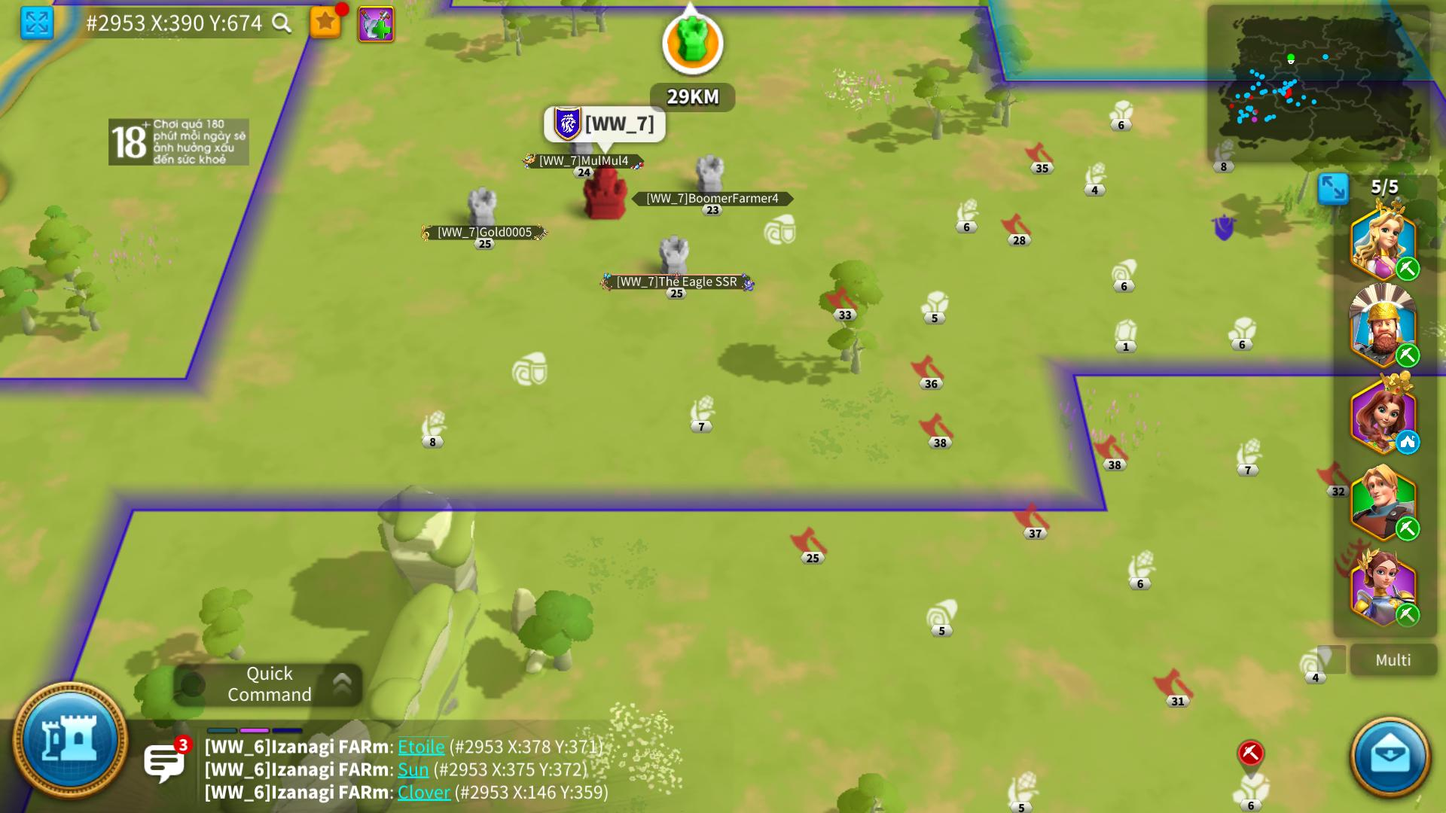gem-z-out: (1114, 318, 1138, 354)
march_idle: (1396, 429, 1422, 456)
